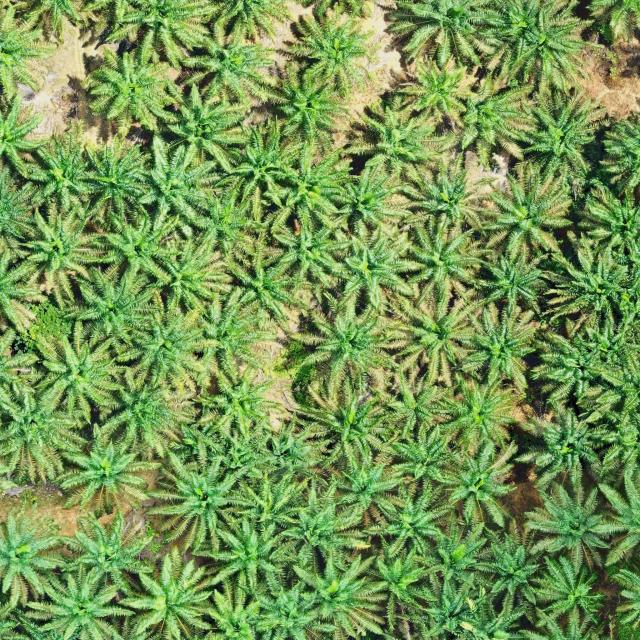Tree: (289, 294, 406, 398), (2, 204, 107, 318), (13, 329, 125, 427), (290, 380, 401, 476), (146, 454, 252, 553), (108, 548, 220, 640), (180, 284, 278, 387), (344, 93, 460, 180), (0, 379, 92, 488), (540, 240, 640, 340), (215, 114, 303, 222), (135, 125, 222, 234), (62, 260, 167, 350), (55, 424, 157, 516), (52, 508, 156, 598), (80, 46, 182, 134), (21, 564, 137, 640), (382, 291, 472, 387), (288, 552, 386, 640), (513, 396, 605, 489), (481, 166, 576, 256), (279, 474, 374, 564), (527, 318, 625, 405), (516, 88, 609, 179), (180, 22, 276, 110), (159, 85, 250, 176), (396, 157, 500, 236), (288, 9, 378, 100), (357, 479, 457, 560), (326, 216, 412, 308), (201, 514, 295, 598), (514, 9, 608, 93), (262, 149, 364, 226), (88, 209, 193, 283), (387, 0, 493, 72), (218, 244, 316, 321), (138, 232, 230, 314), (113, 308, 205, 389), (359, 537, 440, 629), (454, 80, 534, 172), (433, 372, 524, 451), (469, 520, 552, 606), (524, 480, 608, 563), (0, 508, 68, 610), (101, 377, 188, 456), (190, 364, 278, 442), (22, 130, 98, 220), (460, 306, 538, 392), (399, 221, 480, 303), (265, 210, 355, 283), (440, 442, 518, 525), (271, 66, 342, 156), (230, 468, 314, 544), (413, 512, 493, 590), (325, 155, 406, 232), (394, 55, 472, 134), (79, 136, 154, 218), (409, 570, 492, 640), (380, 376, 460, 442), (252, 410, 327, 478), (579, 182, 640, 264), (536, 554, 606, 625), (474, 248, 546, 317), (393, 419, 462, 486)
